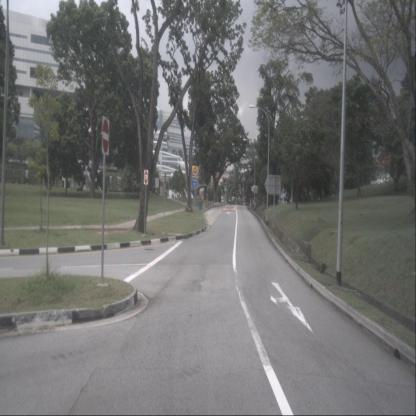vehicle-bicycle: (184, 200, 193, 214)
